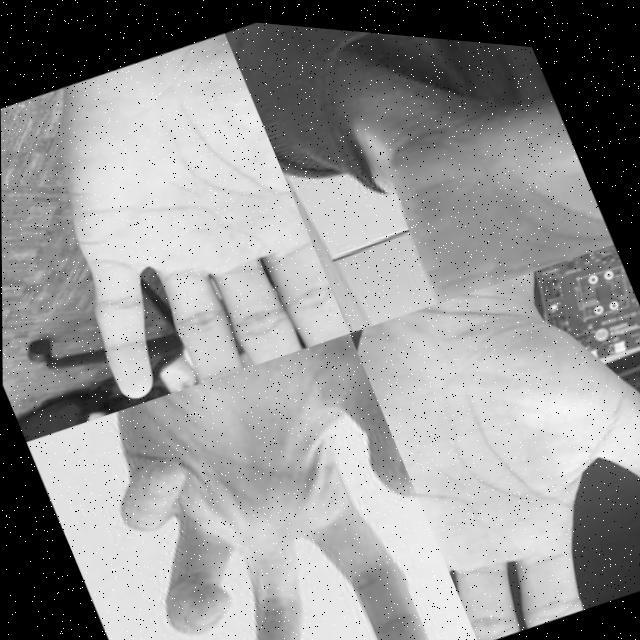no-gloves: (0, 13, 349, 422), (80, 308, 478, 640), (348, 215, 640, 640), (316, 22, 614, 322)
